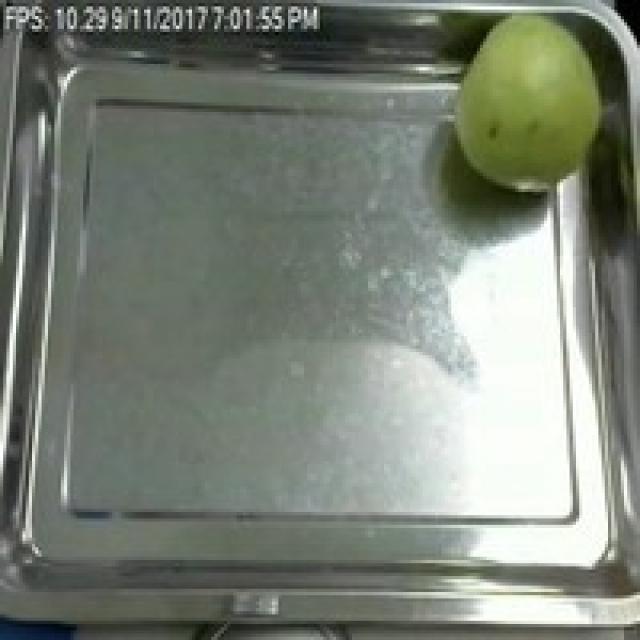Fruit: (438, 0, 637, 208)
